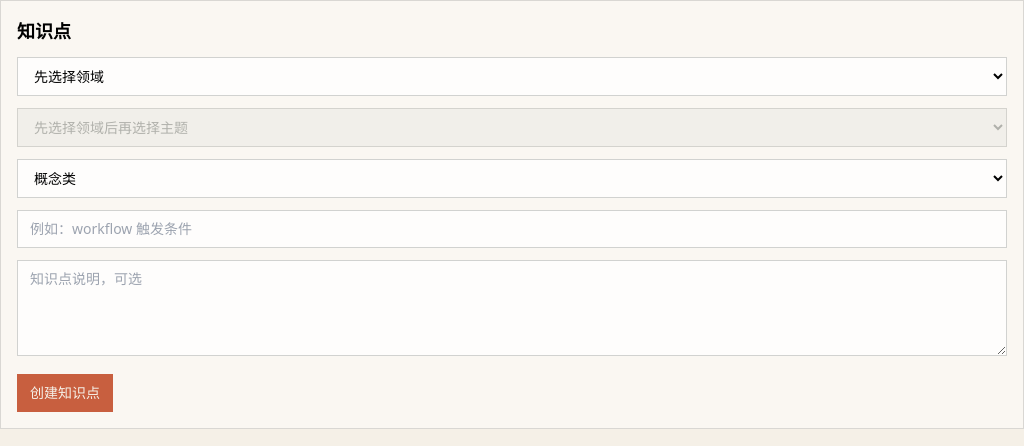
Test: KnowledgePointCreateForm › filters topic options by the selected domain
This screenshot has width=1024, height=446.
Check: the dropdown named "知识点所属主题" is disabled, box [17,108,1007,147]
Select "历史" in the dropdown named "知识点所属领域" at {"x": 512, "y": 76}, box [17,57,1007,96]
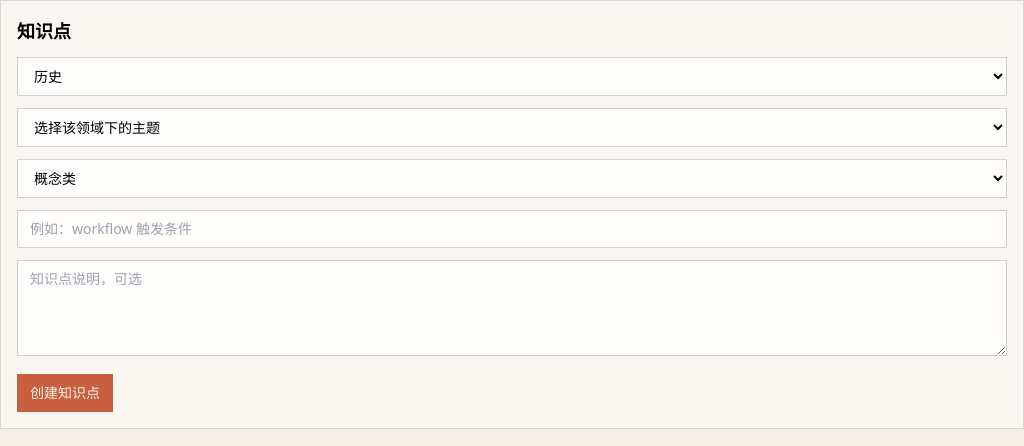
Check: the dropdown named "知识点所属主题" is enabled, box [17,108,1007,147]
